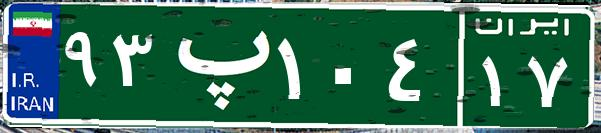0: (330, 28, 385, 110)
1: (273, 28, 330, 110), (475, 38, 525, 113)
3: (110, 28, 158, 105)
4: (385, 28, 445, 110)
7: (525, 38, 570, 115)
9: (57, 26, 110, 107)
پ: (158, 15, 273, 115)
